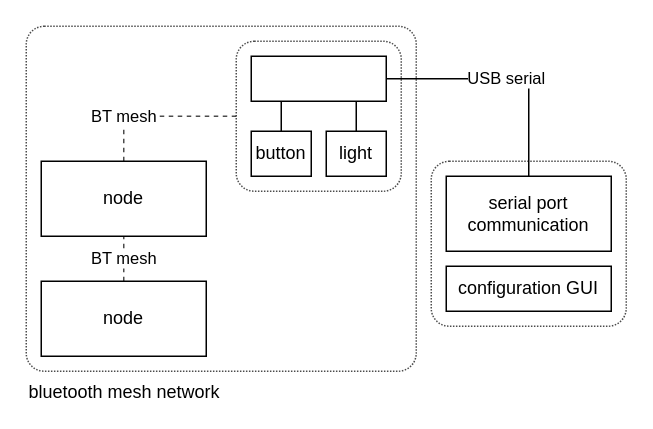
The diagram is 653 pixels wide and 429 high, and some of its shapes have lost their labels. Here are the shapes that lost their labels. From the top down, the box of each, then its label:
(250, 55, 386, 101): nRF528xx
(235, 40, 401, 191): node (as border router)
(430, 160, 626, 326): Configuration utility (on desktop computer)
